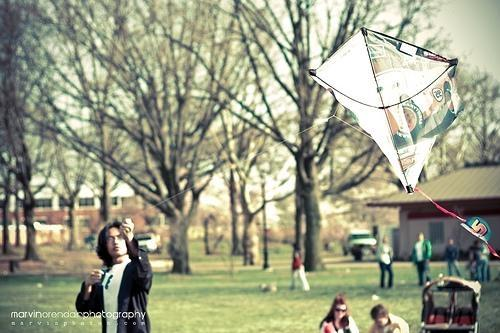car: (344, 229, 376, 260), (134, 232, 158, 252)
